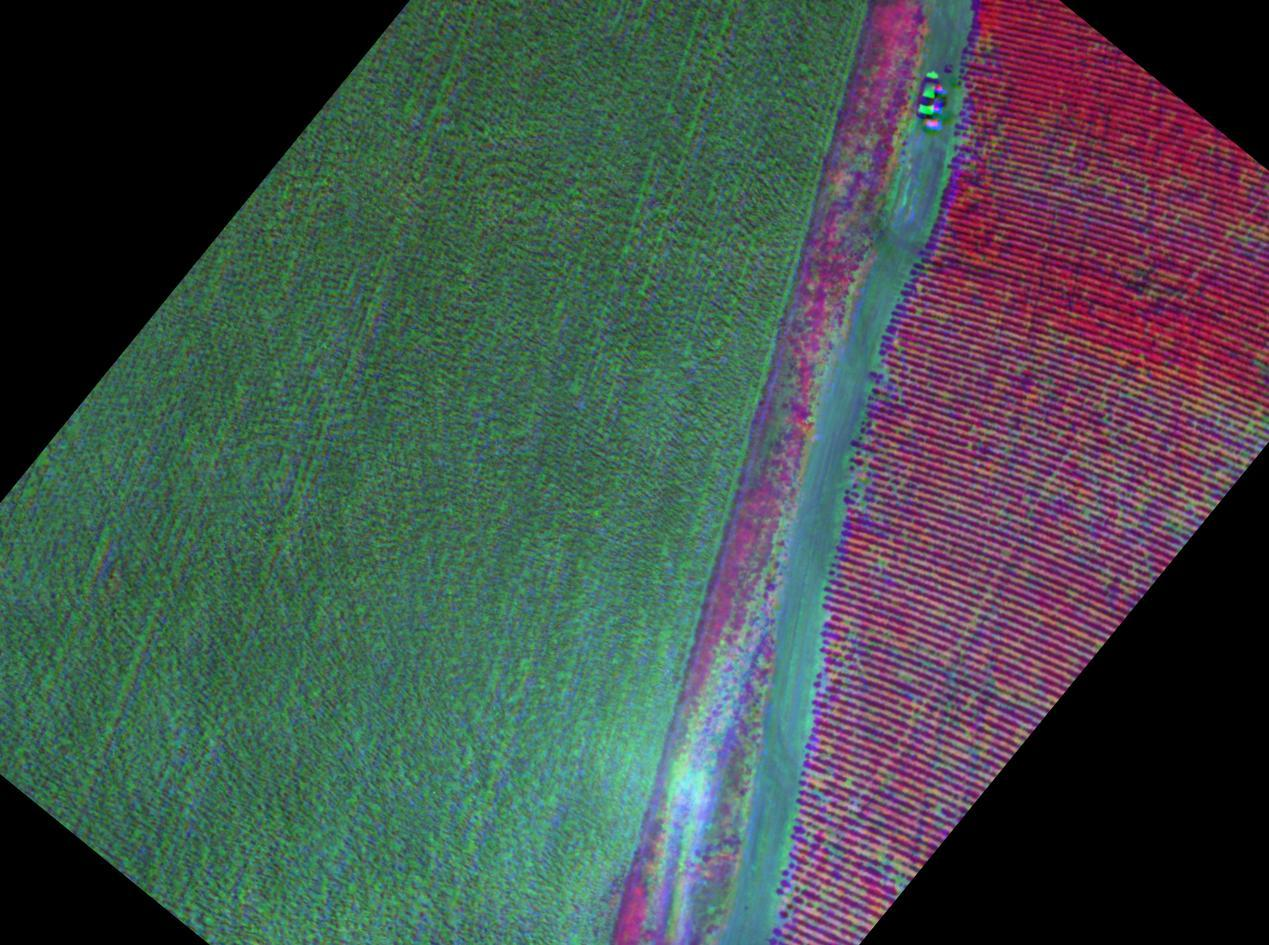dc: (1068, 491, 1144, 533), (799, 768, 860, 812), (865, 843, 913, 889), (852, 458, 889, 506), (1225, 406, 1265, 449)
